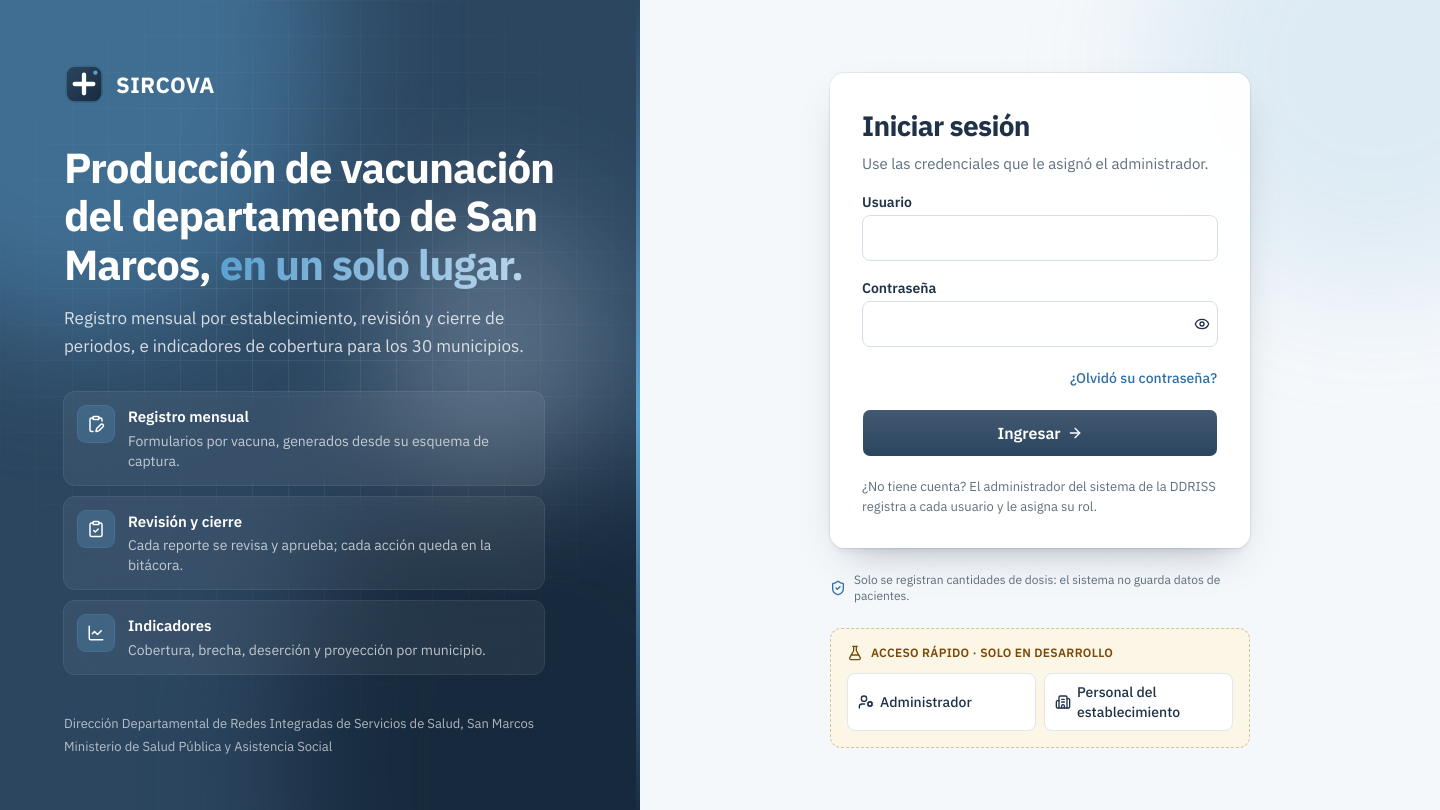
Test case: cuenta bloqueada › un 423 abre el diálogo con el mensaje del backend y no muestra la alerta de error
Expected: the heading "Iniciar sesión" is shown, [862, 107, 1030, 144]
Type "jperez" into the field labelled "Usuario" at (1040, 238), box [862, 215, 1218, 261]
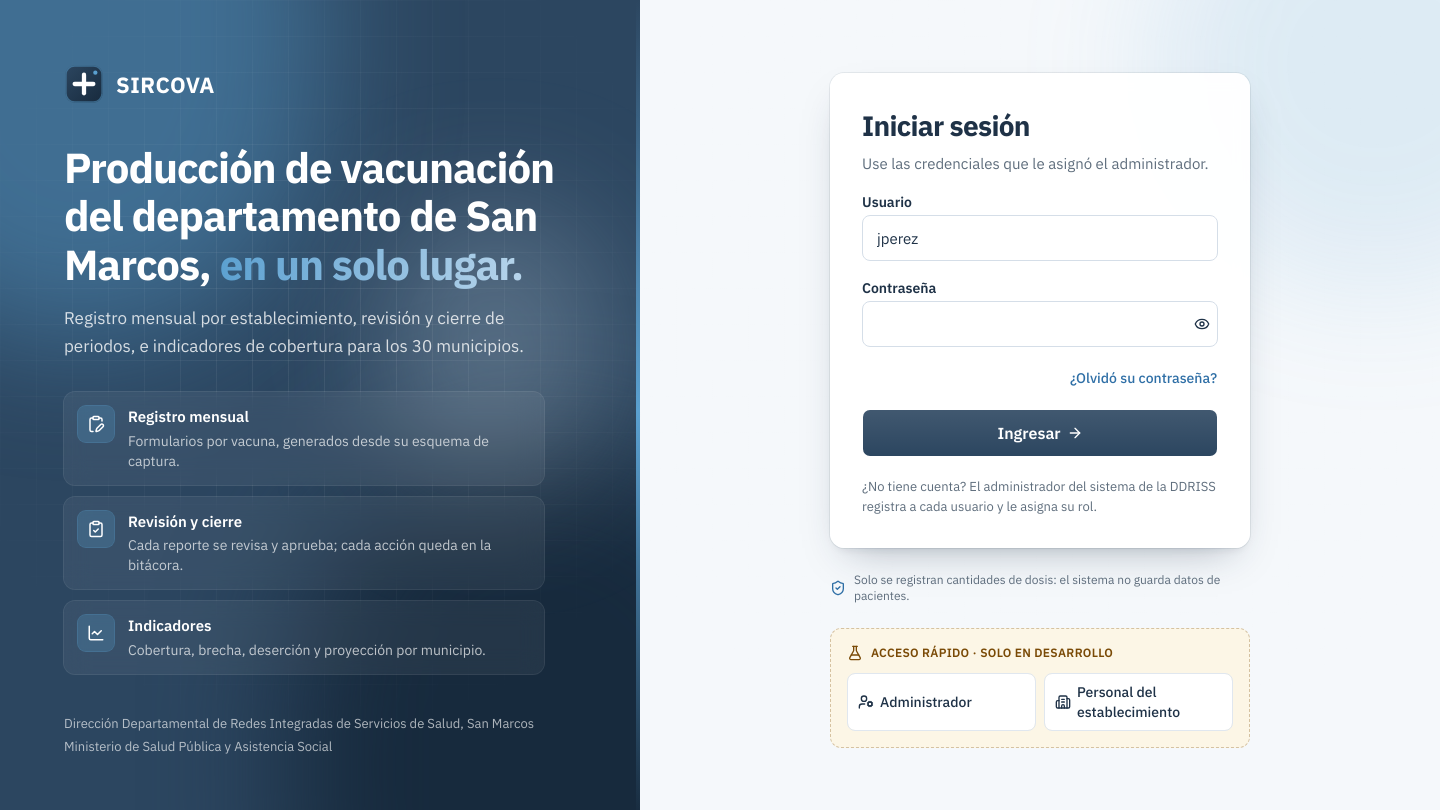
Type "secreta123" into the password field labelled "Contraseña" at (1040, 324), box [862, 301, 1218, 347]
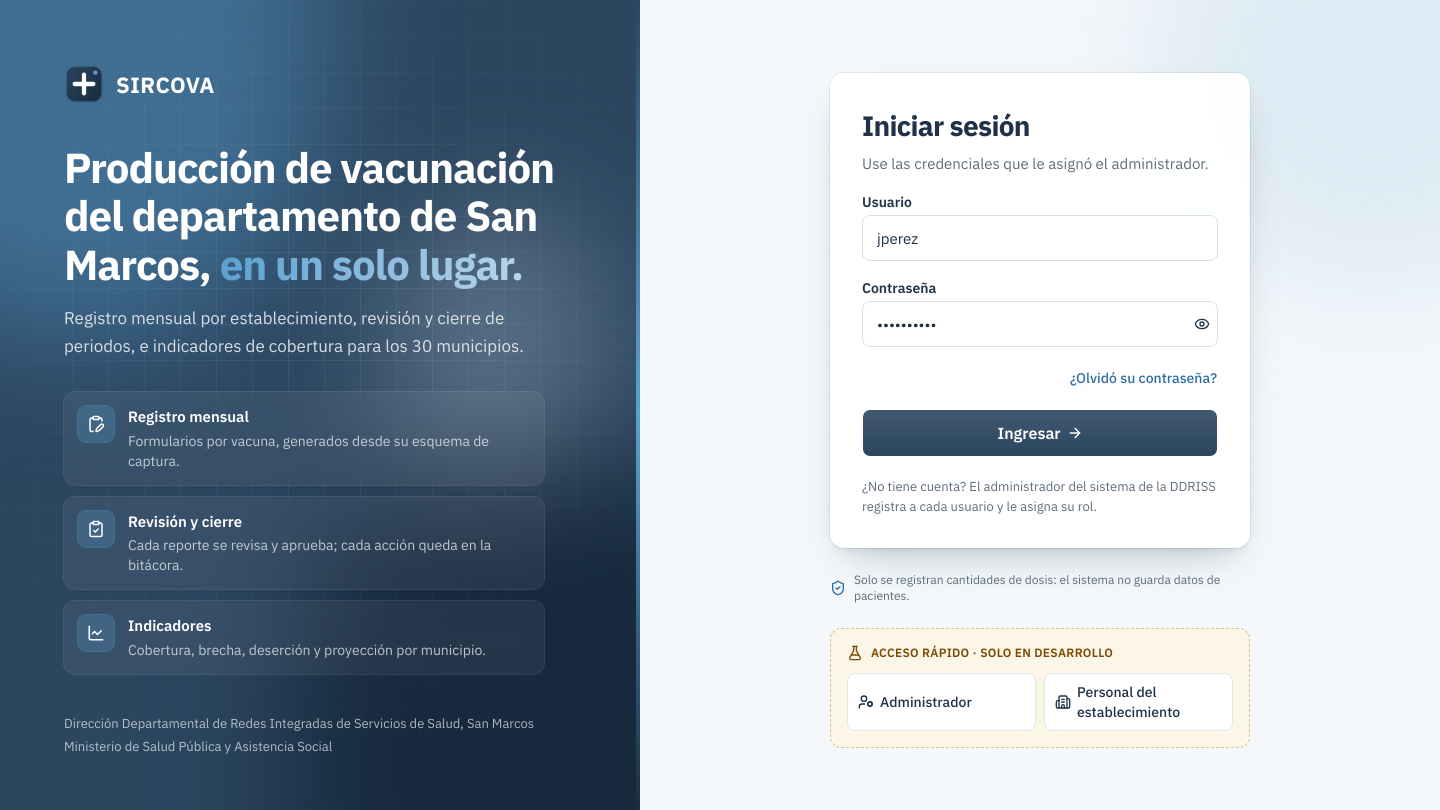
Click the button "Ingresar" at (1040, 433), box [862, 409, 1218, 457]
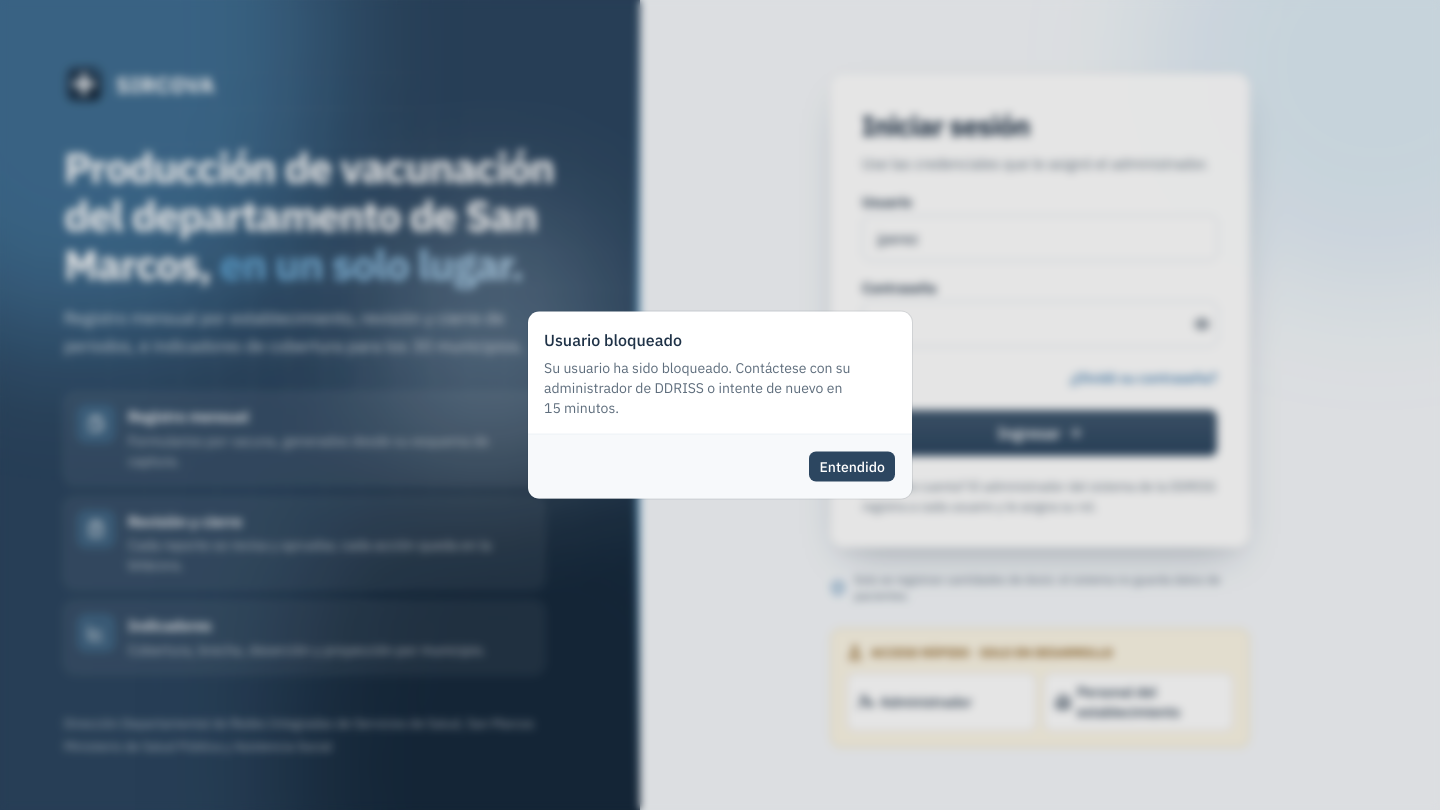
Result: the heading "Usuario bloqueado" is shown at [544, 328, 682, 352]
Result: the dialog shows "Su usuario ha sido bloqueado. Contáctese con su administrador de DDRISS o intente de nuevo en 15 minutos." at [544, 358, 851, 416]
